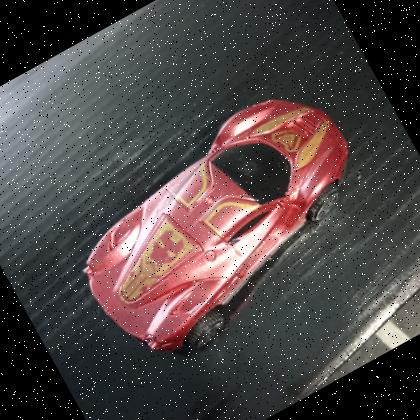Car: (44, 64, 409, 386)
